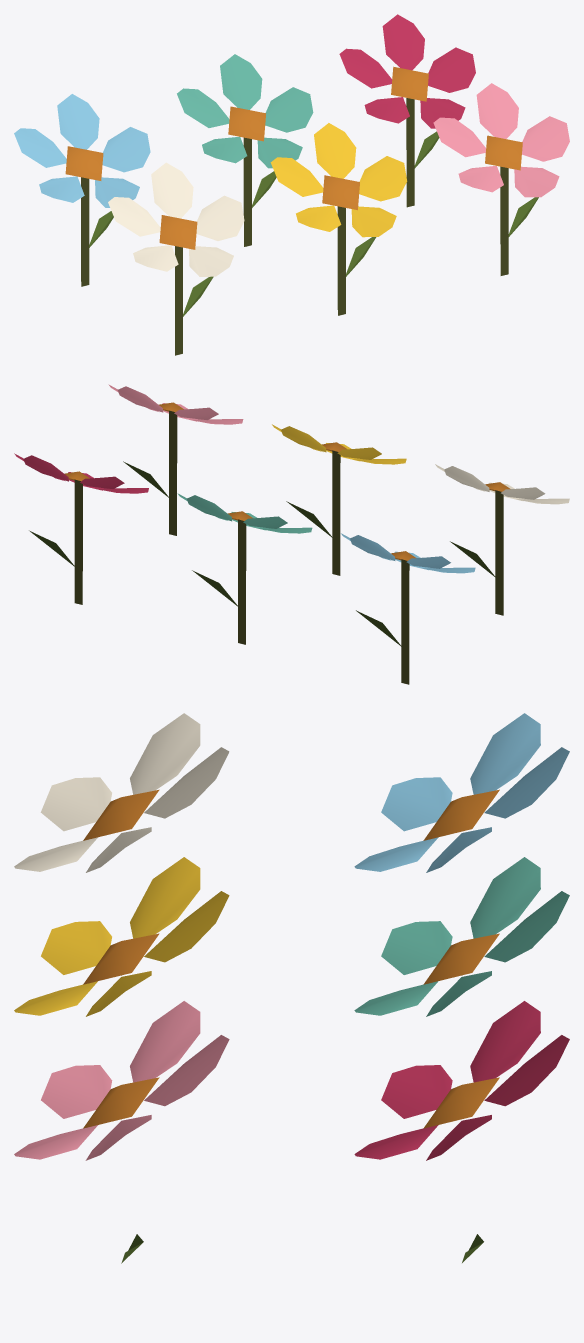
Rendered from Daisies_6_Colors.glb.
The picture shows the model from 3 angles, top to bottom: view 1: azimuth 30°, elevation 25°; view 2: azimuth 150°, elevation 25°; view 3: azimuth 270°, elevation 25°; orthographic projection. The views are drawn at different scales.
Parts seen in each view (by area): view 1: Rounded daisy Blush pink, Rounded daisy Sunflower yellow, Rounded daisy Ivory, Rounded daisy Sky blue, Rounded daisy Magenta, Rounded daisy Mint; view 2: Rounded daisy Sky blue, Rounded daisy Ivory, Rounded daisy Sunflower yellow, Rounded daisy Magenta, Rounded daisy Mint, Rounded daisy Blush pink; view 3: Rounded daisy Blush pink, Rounded daisy Magenta, Rounded daisy Ivory, Rounded daisy Sunflower yellow, Rounded daisy Sky blue, Rounded daisy Mint.
Part boxes in pixels (x1,y1,x2,y2): Rounded daisy Blush pink: (433, 83, 569, 275); Rounded daisy Sunflower yellow: (270, 123, 407, 315); Rounded daisy Ivory: (108, 162, 244, 355); Rounded daisy Sky blue: (14, 94, 150, 286); Rounded daisy Magenta: (339, 14, 475, 207); Rounded daisy Mint: (177, 54, 313, 246); Rounded daisy Sky blue: (341, 533, 475, 684); Rounded daisy Ivory: (435, 464, 569, 615); Rounded daisy Sunflower yellow: (272, 424, 406, 575); Rounded daisy Magenta: (14, 453, 148, 604); Rounded daisy Mint: (177, 493, 312, 644); Rounded daisy Blush pink: (108, 384, 243, 535); Rounded daisy Blush pink: (14, 1001, 229, 1263); Rounded daisy Magenta: (354, 1001, 569, 1262); Rounded daisy Ivory: (14, 713, 229, 975); Rounded daisy Sunflower yellow: (14, 857, 229, 1016); Rounded daisy Sky blue: (354, 713, 569, 872); Rounded daisy Mint: (354, 857, 569, 1016).
Size of the model in its own units: 1.72 by 0.6149 by 1.03.
Materials: 1 (1 with a texture image).
